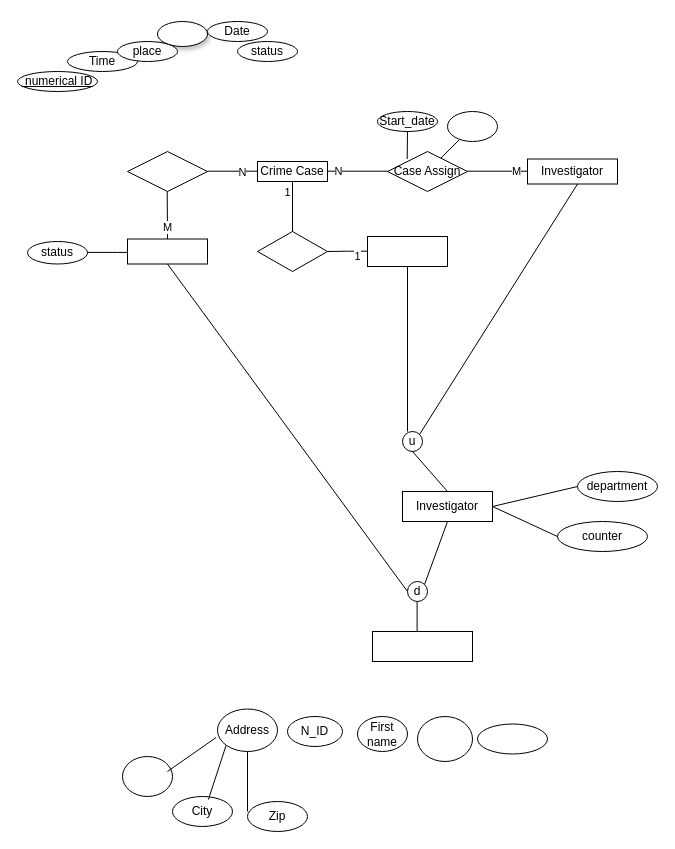
Image size: 675x849. Some labels were removed from this diagram. Here are the shapes that lost their labels. From the top down, the centre of each, then its label:
At (x=183, y=35): "Type".
At (x=472, y=126): "end_date".
At (x=167, y=171): "Criminal".
At (x=167, y=251): "Suspect".
At (x=292, y=251): "Supervision".
At (x=407, y=251): "Lead Investigator".
At (x=422, y=646): "Person".
At (x=444, y=739): "Last name".
At (x=512, y=738): "Phone no.".
At (x=147, y=776): "Street".
